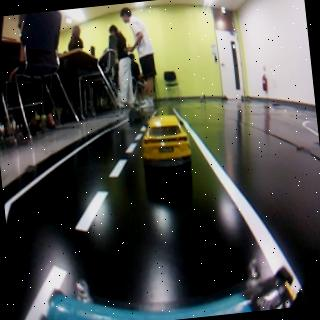car: (137, 112, 195, 178), (124, 106, 148, 127)
